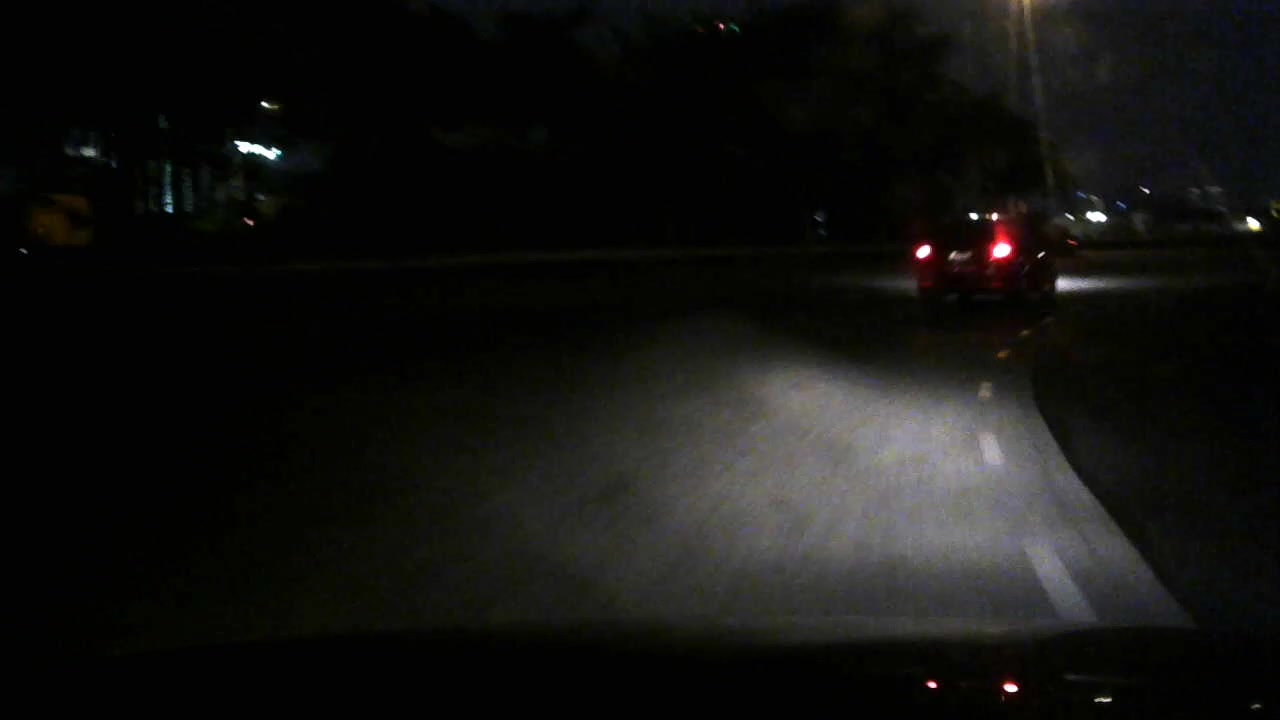Car: (899, 208, 1073, 307)
